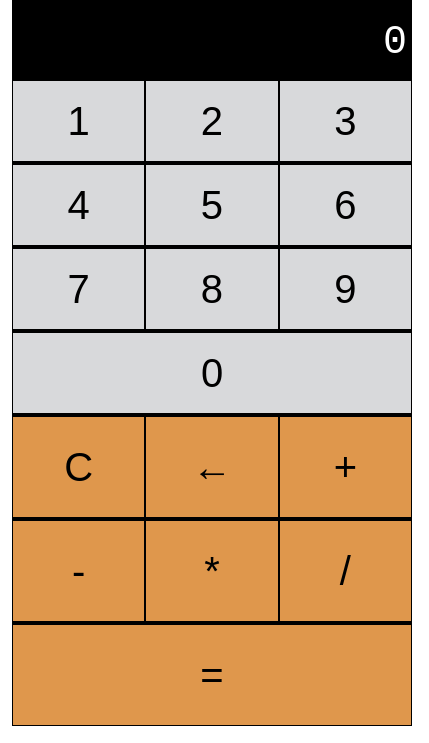
Test: Calculator › should calculate based on user input and show the calculation
The image size is (429, 743).
Step 1. Click the button "1" → (79, 121), box [13,81,144,161]
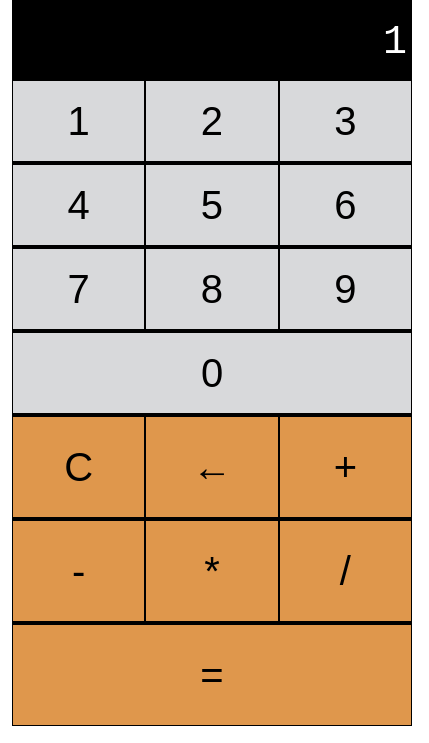
Step 2. Click the button "+" → (345, 467), box [280,417,411,517]
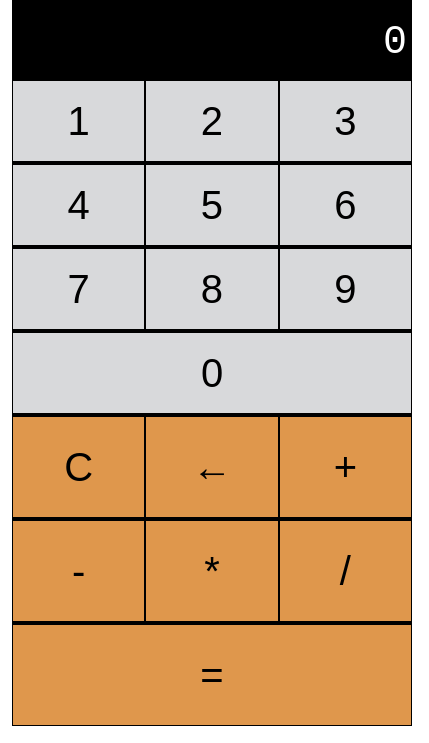
Step 3. Click the button "1" → (79, 121), box [13,81,144,161]
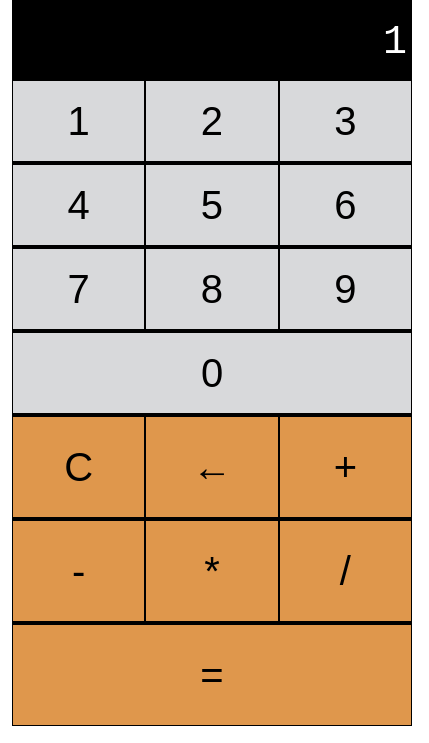
Step 4. Click the button "=" → (212, 675), box [13,625,411,725]
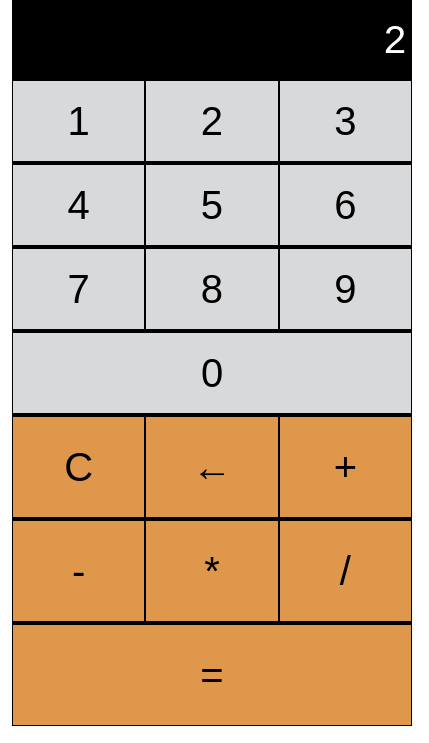
Expected: the cell reads "2", [383,20,407,65]
